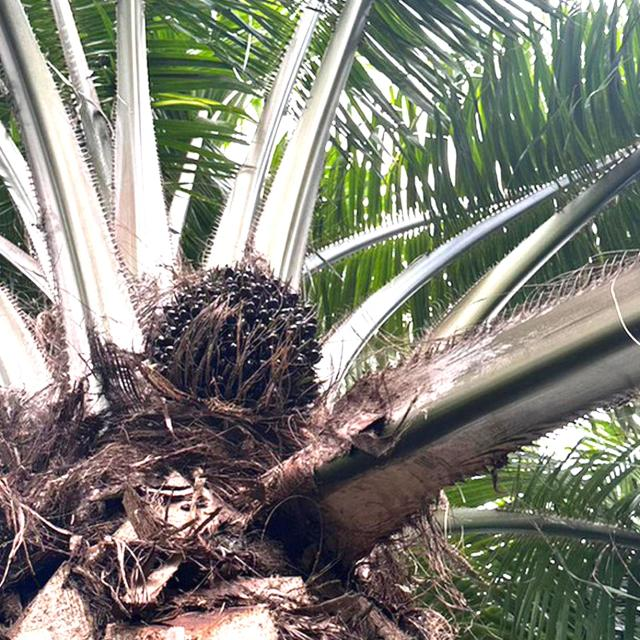ripe: (157, 259, 328, 431)
